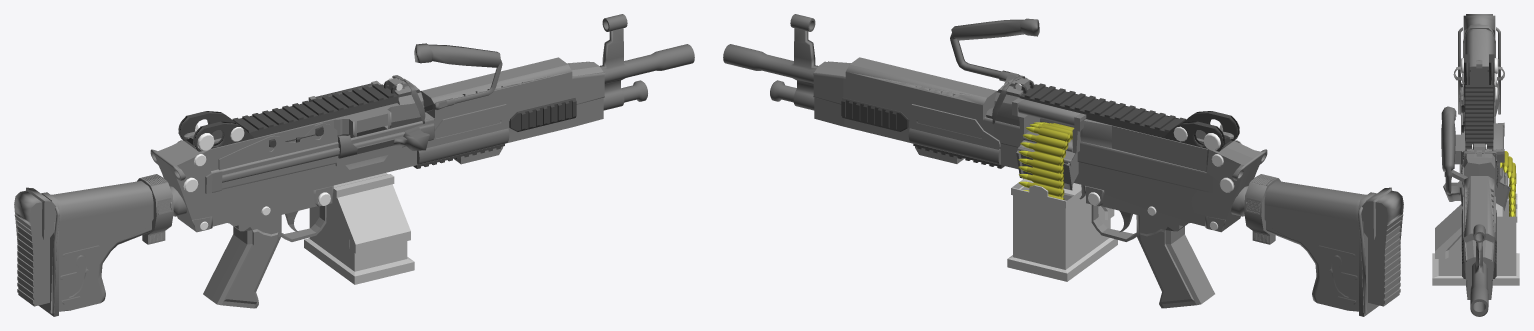
Rendered from FN Minimi.fbx.
The picture shows the model from 3 angles, left to right: view 1: azimuth 30°, elevation 25°; view 2: azimuth 150°, elevation 25°; view 3: azimuth 270°, elevation 25°; orthographic projection. The views are drawn at different scales.
Parts seen in each view (by area): view 1: Cube.018; view 2: Cube.018; view 3: Cube.018.
Boxes of the visible parts, left/top/right/bottom form: Cube.018: left=14, top=14, right=694, bottom=316; Cube.018: left=723, top=14, right=1403, bottom=316; Cube.018: left=1432, top=14, right=1519, bottom=316.
Bounding box in the file's own units: 710 × 237 × 93.41.
